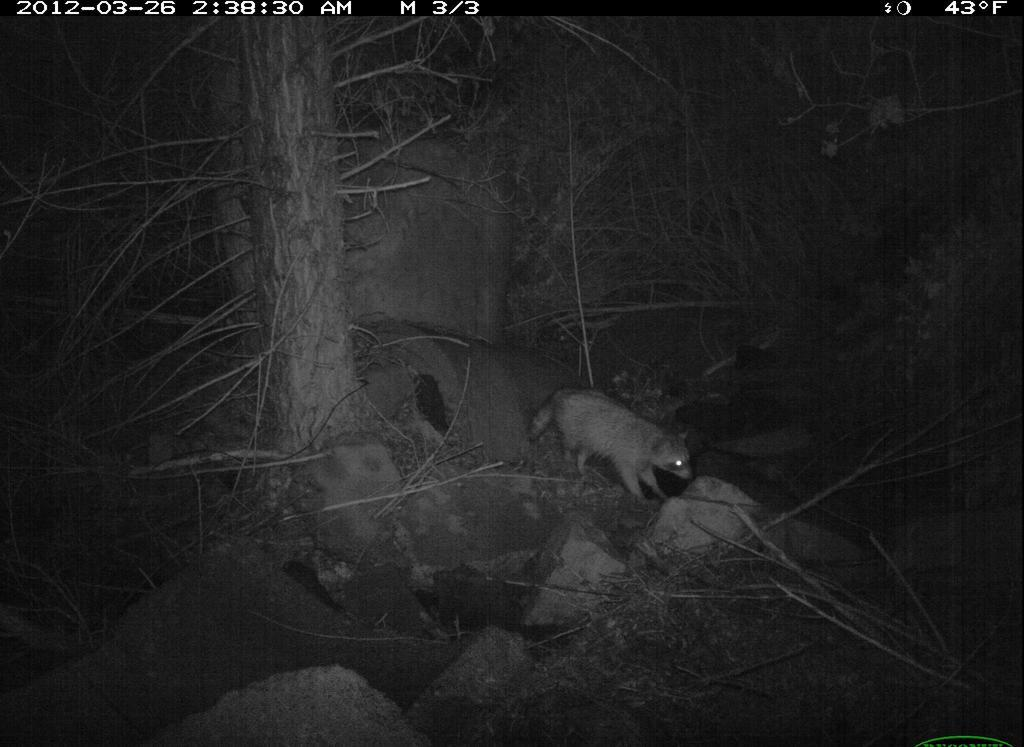raccoon: (519, 369, 702, 511)
